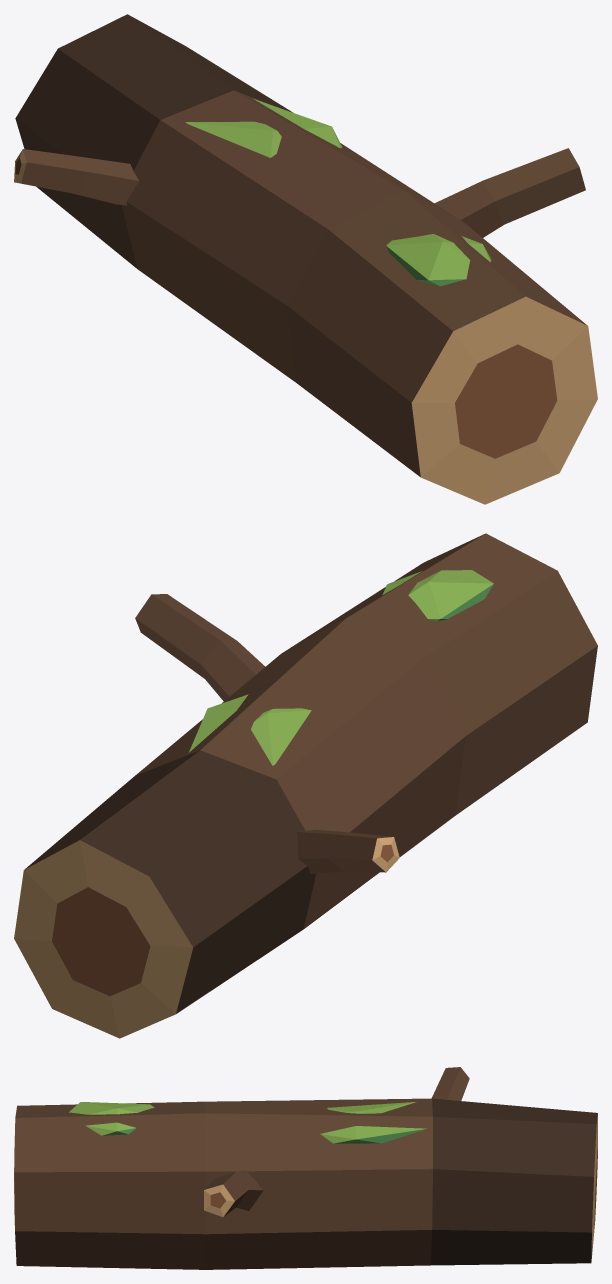
File: log.glb
The picture shows the model from 3 angles, top to bottom: view 1: azimuth 30°, elevation 25°; view 2: azimuth 150°, elevation 25°; view 3: azimuth 270°, elevation 25°; orthographic projection. The views are drawn at different scales.
Parts seen in each view (by area): view 1: Body; view 2: Body; view 3: Body.
Part boxes in pixels (<box>): Body: <box>14,14,597,504</box>; Body: <box>14,533,597,1038</box>; Body: <box>14,1067,597,1269</box>.
Size of the model in its own units: 1.36 by 0.6773 by 2.32.
